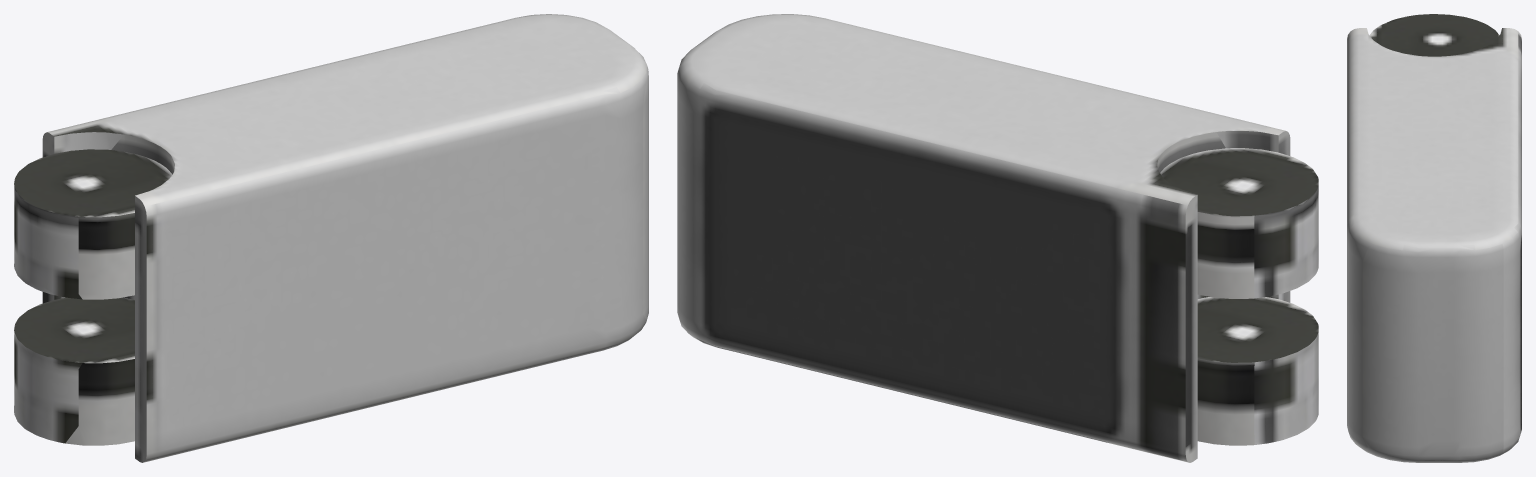
File: finger02.dae
3 views of the same model, side by side, from view 1: azimuth 30°, elevation 25°; view 2: azimuth 150°, elevation 25°; view 3: azimuth 270°, elevation 25° (orthographic). The views are drawn at different scales.
Visible parts, largest first — view 1: simple_mesh_finger_02; view 2: simple_mesh_finger_02; view 3: simple_mesh_finger_02.
Boxes of the visible parts, x1,y1,x2,y2 form: simple_mesh_finger_02: [14, 14, 648, 462]; simple_mesh_finger_02: [677, 14, 1318, 462]; simple_mesh_finger_02: [1347, 14, 1521, 462].
Bounding box in the file's own units: 73.5 × 22 × 30.6.
1 material, 1 textured.
